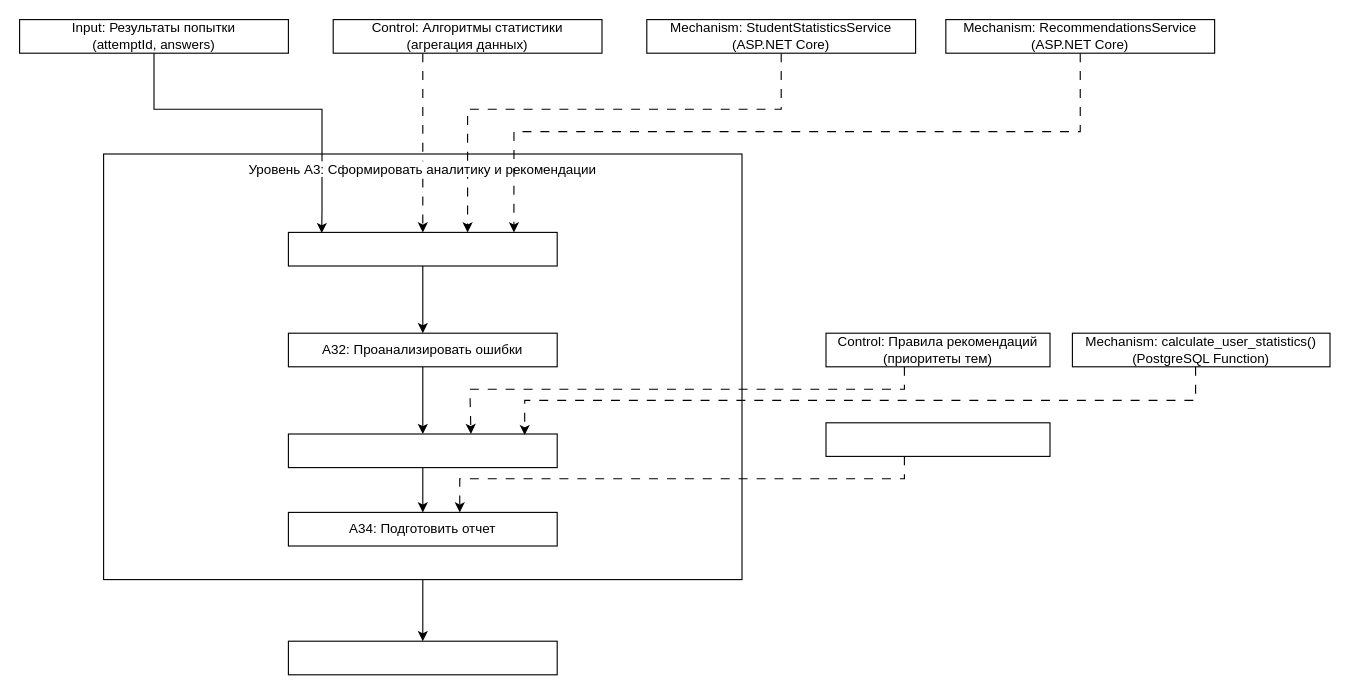
The diagram is 1350 pixels wide and 694 high, and some of its shapes have lost their labels. Each missing label, with the centre of its shape:
"A31: Рассчитать статистику" goes at pixel 422 248.
"A33: Сформировать рекомендации" goes at pixel 422 450.
"Control: Правила форматирования (структура отчета)" goes at pixel 937 439.
"Output: Статистика и рекомендации (accuracy, topics, recommendations)" goes at pixel 422 657.
